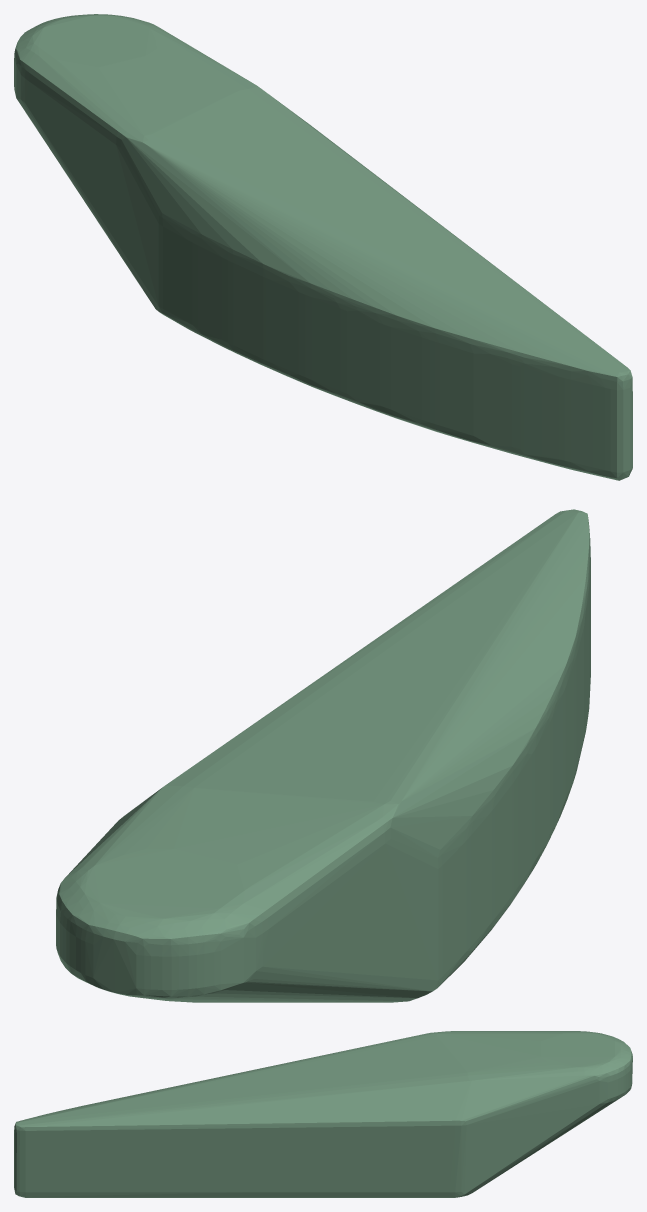
The model's file is gripper_l1.obj.
The picture shows the model from 3 angles, top to bottom: view 1: azimuth 30°, elevation 25°; view 2: azimuth 150°, elevation 25°; view 3: azimuth 270°, elevation 25°; orthographic projection. The views are drawn at different scales.
Visible parts, largest first — view 1: geometry_0; view 2: geometry_0; view 3: geometry_0.
Part boxes in pixels (left/top/right/bottom): geometry_0: left=14, top=14, right=632, bottom=480; geometry_0: left=56, top=509, right=590, bottom=1002; geometry_0: left=14, top=1031, right=632, bottom=1197.
Size of the model in its own units: 0.0407 by 0.0327 by 0.1658.
